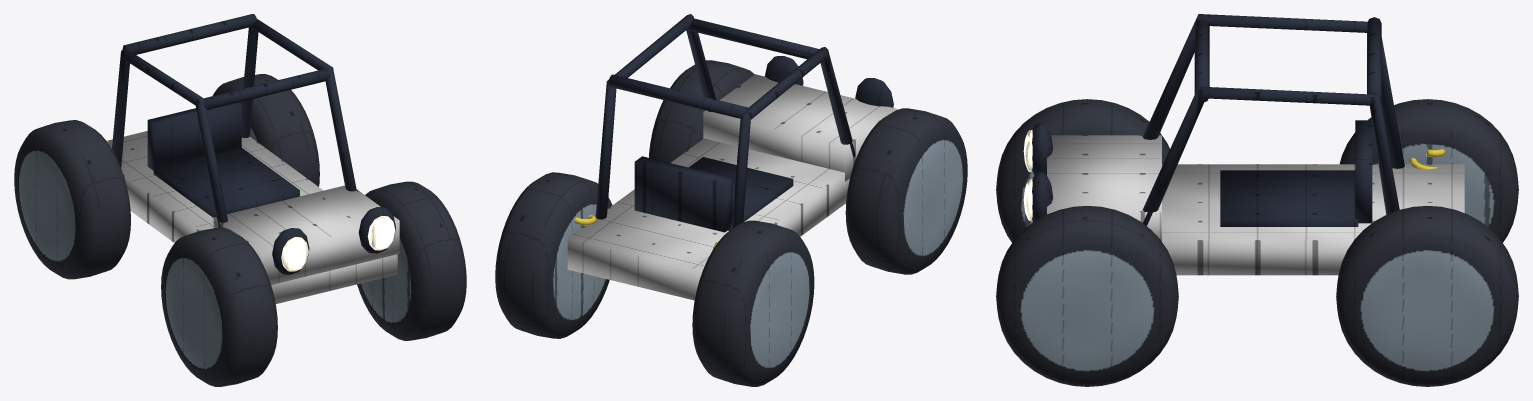
File: buggy.glb
3 renders of one model, left to right at view 1: azimuth 30°, elevation 25°; view 2: azimuth 150°, elevation 25°; view 3: azimuth 270°, elevation 25°, orthographic. The views are drawn at different scales.
Parts seen in each view (by area): view 1: body_details, body_paint, wheel_FR, wheel_RR, wheel_FL, wheel_RL; view 2: body_paint, body_details, wheel_RR, wheel_FR, wheel_RL, wheel_FL; view 3: wheel_RL, wheel_FL, body_paint, body_details, wheel_RR, wheel_FR.
Part boxes in pixels (x1=…): body_details: x1=112, y1=14, x2=395, y2=274; body_paint: x1=108, y1=131, x2=399, y2=303; wheel_FR: x1=161, y1=227, x2=277, y2=386; wheel_RR: x1=14, y1=120, x2=130, y2=279; wheel_FL: x1=357, y1=181, x2=466, y2=340; wheel_RL: x1=212, y1=74, x2=319, y2=186; body_paint: x1=567, y1=74, x2=897, y2=300; body_details: x1=595, y1=14, x2=893, y2=232; wheel_RR: x1=692, y1=220, x2=814, y2=386; wheel_FR: x1=845, y1=108, x2=967, y2=274; wheel_RL: x1=495, y1=172, x2=612, y2=338; wheel_FL: x1=649, y1=60, x2=754, y2=162; wheel_RL: x1=1336, y1=206, x2=1518, y2=386; wheel_FL: x1=996, y1=206, x2=1178, y2=386; body_paint: x1=1047, y1=135, x2=1464, y2=275; body_details: x1=1023, y1=14, x2=1404, y2=226; wheel_RR: x1=1339, y1=99, x2=1518, y2=242; wheel_FR: x1=996, y1=99, x2=1169, y2=242.
Bounding box in the file's own units: 1.6 × 1.51 × 2.6.
2 materials, 2 textured.
